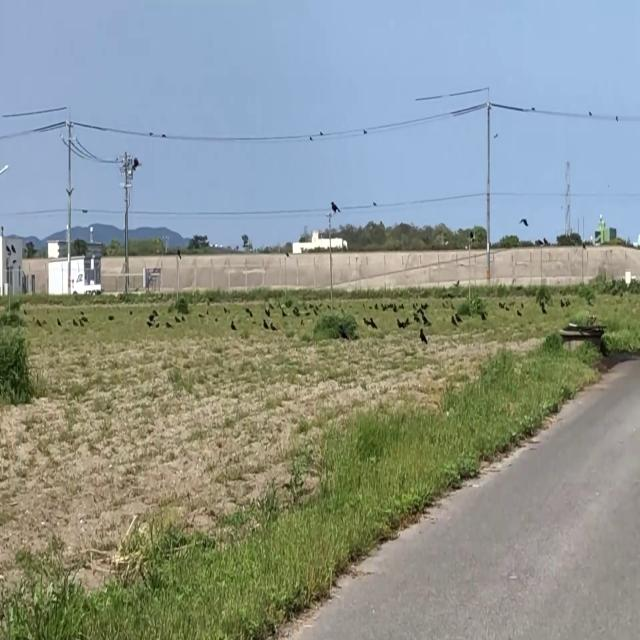bird: (330, 196, 340, 218), (520, 212, 529, 232), (420, 326, 427, 347), (230, 314, 236, 334), (341, 322, 346, 342), (451, 314, 456, 330), (481, 307, 485, 324), (370, 313, 374, 330), (364, 312, 368, 328), (149, 126, 153, 139), (560, 296, 564, 309)
